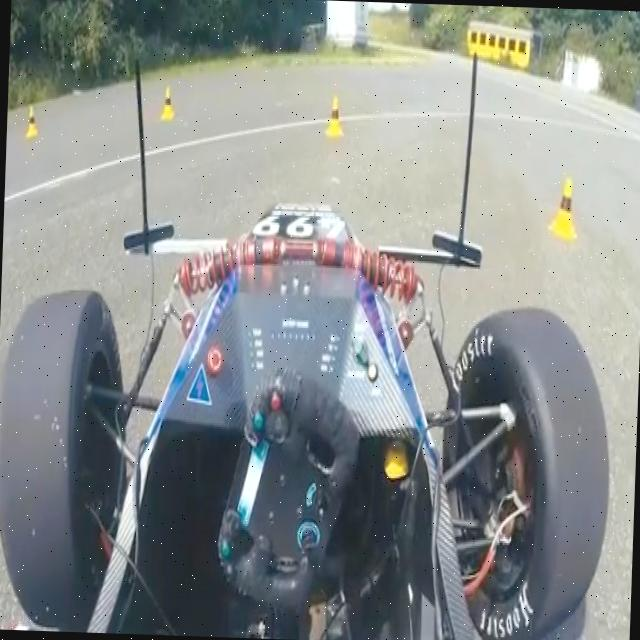yellow_cone: (547, 176, 581, 244), (325, 97, 347, 139), (159, 82, 177, 121), (23, 103, 40, 138)
